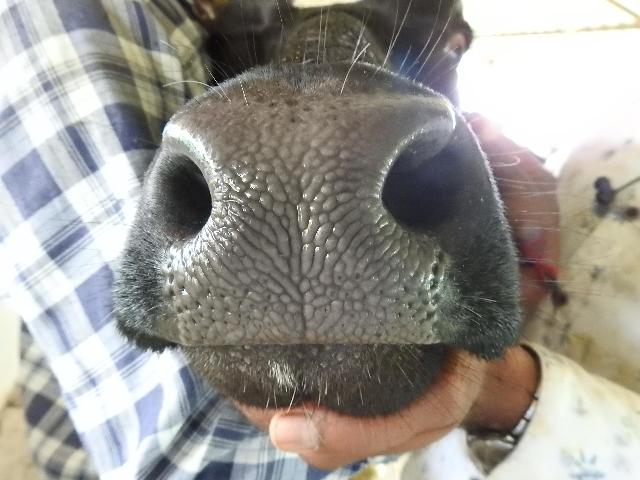Muzzle: (191, 118, 405, 346)
